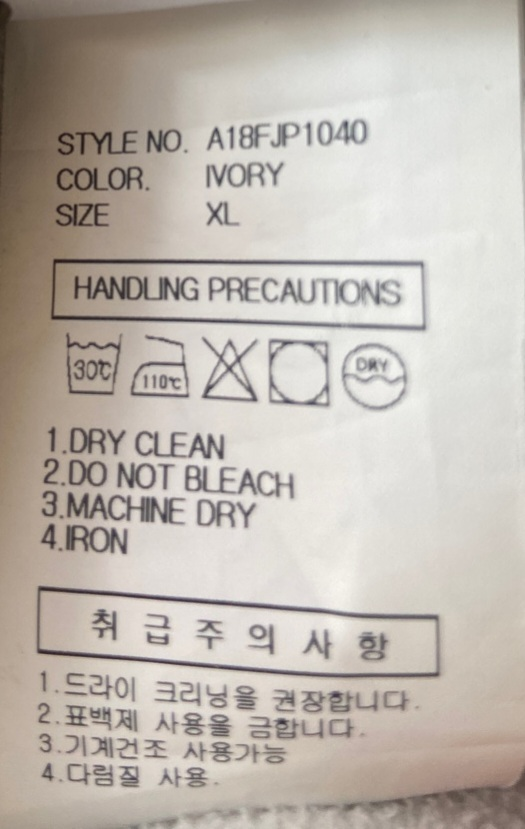ER_flat_dry: (341, 339, 412, 411)
ER_no_bleach: (198, 338, 258, 406)
ER_tumble_dry: (263, 333, 336, 409)
ER_wash_30: (56, 329, 124, 400)
